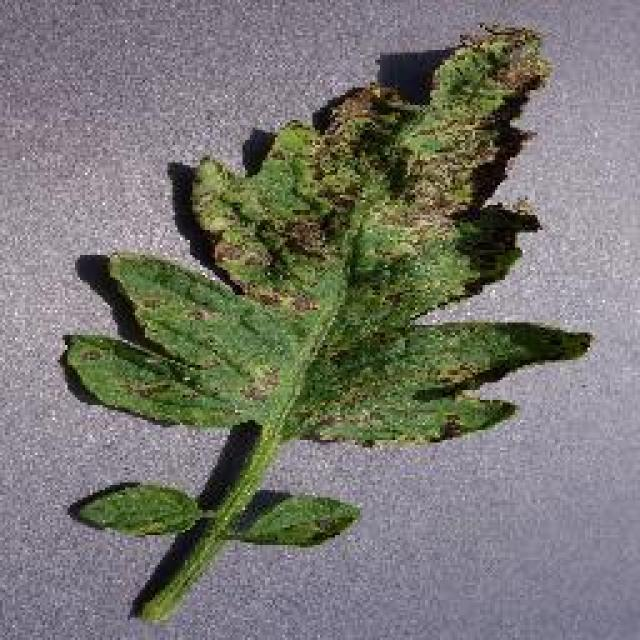Tom_Septoria_leaf_spot: (360, 9, 549, 180), (202, 105, 350, 305), (375, 177, 521, 305)
